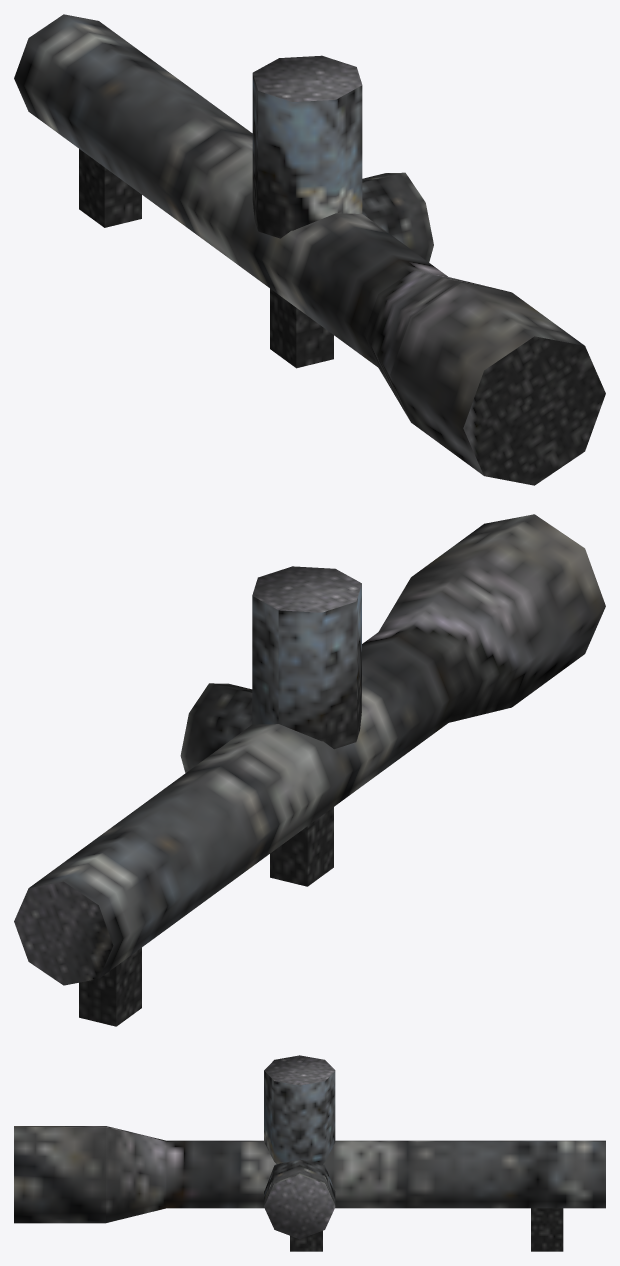
Rendered from 2xLeupoldScope.fbx.
3 renders of one model, top to bottom at view 1: azimuth 30°, elevation 25°; view 2: azimuth 150°, elevation 25°; view 3: azimuth 270°, elevation 25°, orthographic. The views are drawn at different scales.
Visible parts, largest first — view 1: 2xLeupoldScope; view 2: 2xLeupoldScope; view 3: 2xLeupoldScope.
Boxes of the visible parts, left/top/right/bottom form: 2xLeupoldScope: left=14, top=14, right=605, bottom=485; 2xLeupoldScope: left=14, top=514, right=605, bottom=1026; 2xLeupoldScope: left=14, top=1055, right=605, bottom=1251.
Bounding box in the file's own units: 0.0247 × 0.1189 × 0.0389.
